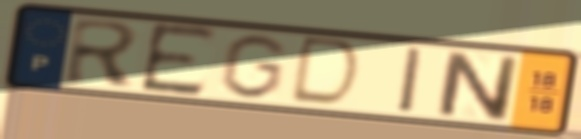D: (285, 34, 365, 110)
E: (136, 20, 221, 100)
G: (215, 32, 292, 102)
I: (396, 44, 427, 117)
N: (434, 48, 520, 124)
R: (61, 16, 143, 89)
